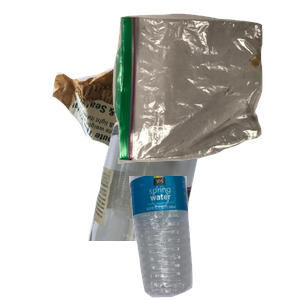cardboard: (50, 62, 228, 226)
glass: (86, 120, 277, 300)
plastic: (127, 176, 300, 300)
trash: (110, 11, 300, 167)
